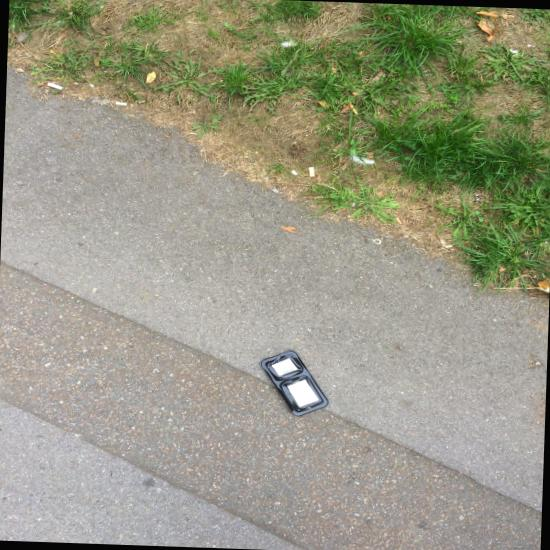Cigarette: (47, 83, 63, 90), (309, 167, 315, 177), (116, 102, 127, 106)
Disposable food container: (259, 350, 329, 416)
